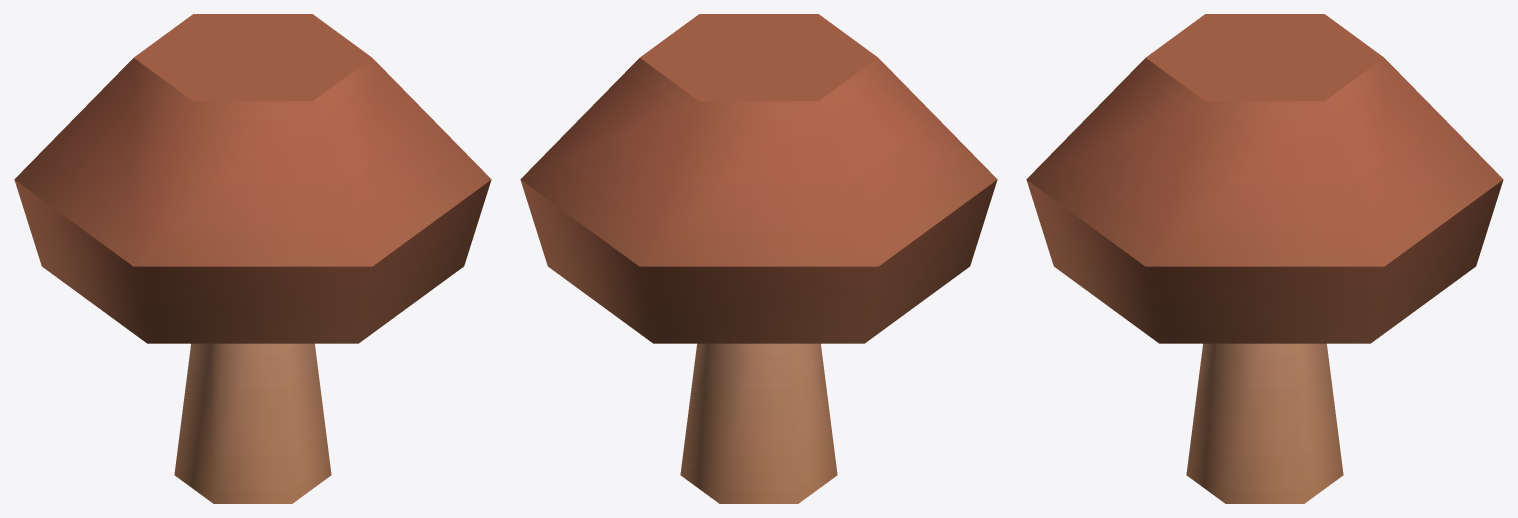
File: mushroom.750cf8acee.glb
3 renders of one model, left to right at view 1: azimuth 30°, elevation 25°; view 2: azimuth 150°, elevation 25°; view 3: azimuth 270°, elevation 25°, orthographic.
Visible parts, largest first — view 1: mushroom; view 2: mushroom; view 3: mushroom.
Part boxes in pixels (x1,y1,x2,y2): mushroom: (14,14,491,503); mushroom: (520,14,997,503); mushroom: (1026,14,1503,503).
Size of the model in its own units: 0.1249 by 0.1392 by 0.1442.
Materials: 1 (1 with a texture image).
